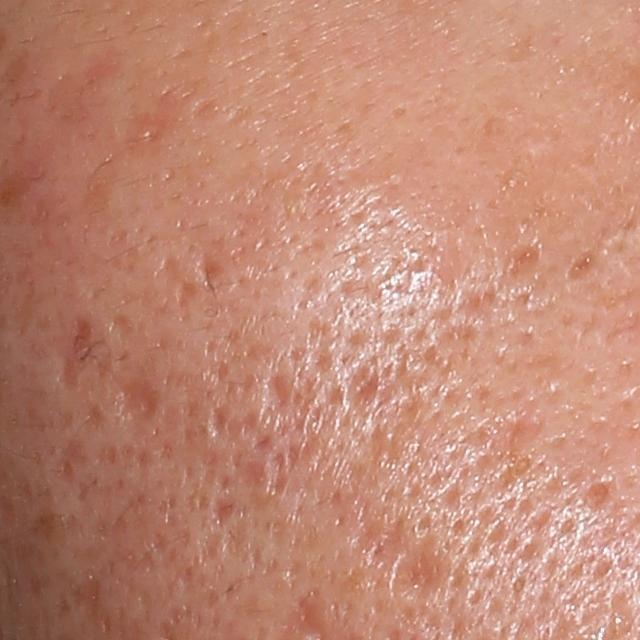atrophic_scar: (387, 540, 447, 606), (107, 376, 168, 440), (53, 314, 95, 392), (152, 255, 201, 311), (498, 407, 552, 457), (116, 105, 170, 154), (343, 362, 384, 414), (503, 241, 547, 284), (44, 441, 86, 485), (557, 247, 604, 285), (205, 406, 247, 441), (578, 475, 610, 514), (195, 250, 224, 290), (192, 531, 224, 566), (271, 453, 295, 498), (266, 369, 289, 409), (240, 456, 267, 489), (107, 314, 135, 344), (81, 396, 104, 432), (210, 497, 235, 523)
